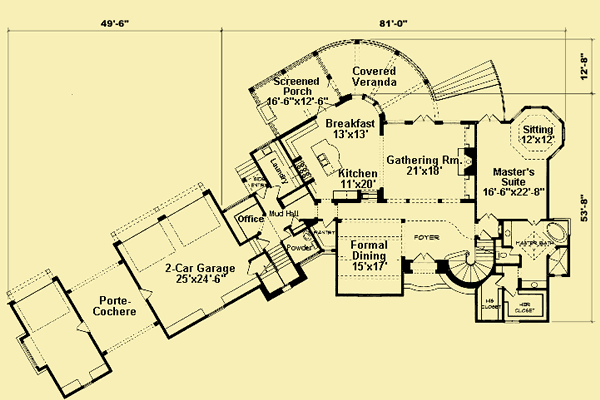door: (412, 249, 437, 266), (412, 109, 434, 125), (137, 286, 154, 304), (475, 113, 500, 125), (77, 320, 91, 334)
kitchen bar: (308, 138, 344, 177)
large sink: (496, 250, 509, 263)
small sink: (500, 220, 512, 249), (523, 278, 547, 291)
stairs: (430, 60, 502, 100), (251, 244, 301, 294), (447, 257, 491, 288), (234, 159, 266, 192)
tub: (545, 221, 569, 243)
